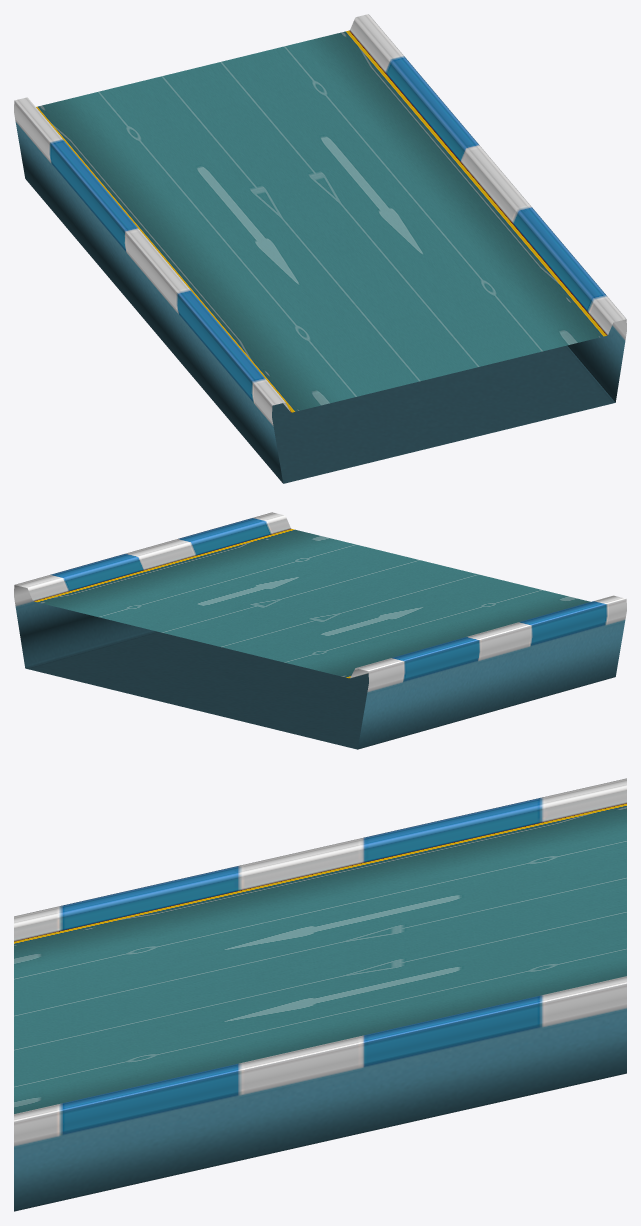
3 views of the same model, one above another, from view 1: azimuth 30°, elevation 25°; view 2: azimuth 150°, elevation 25°; view 3: azimuth 270°, elevation 25° (orthographic). The views are drawn at different scales.
Visible parts, largest first — view 1: lu_lu2; view 2: lu_lu2; view 3: lu_lu2.
Part boxes in pixels (bbox=[...]): lu_lu2: bbox=[14, 14, 626, 483]; lu_lu2: bbox=[14, 512, 626, 749]; lu_lu2: bbox=[14, 778, 626, 1211].
Bounding box in the file's own units: 48.93 × 25.98 × 61.61.
